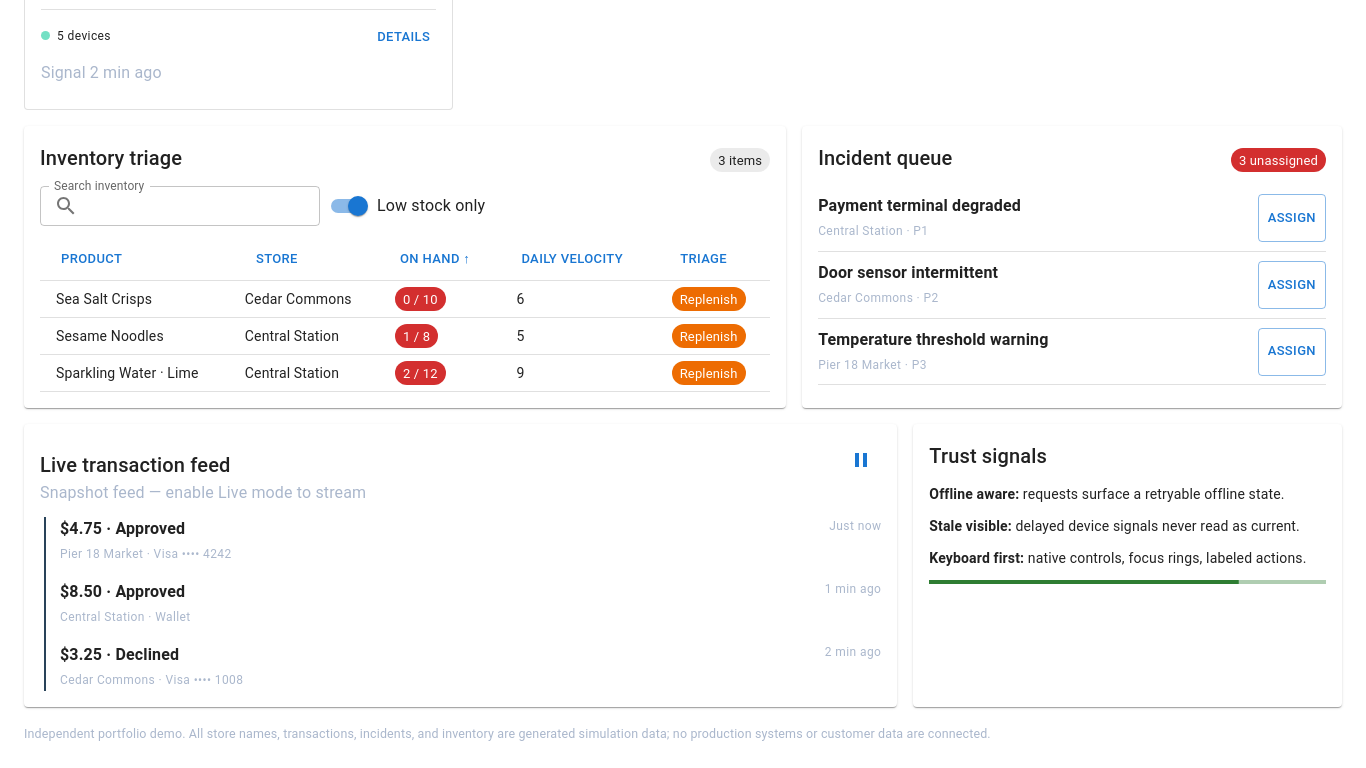
Test: Operator Console › pauses and resumes the transaction feed
(page scrolled)
Click the button named "pause live feed". click: (861, 460)
box: [841, 440, 881, 480]
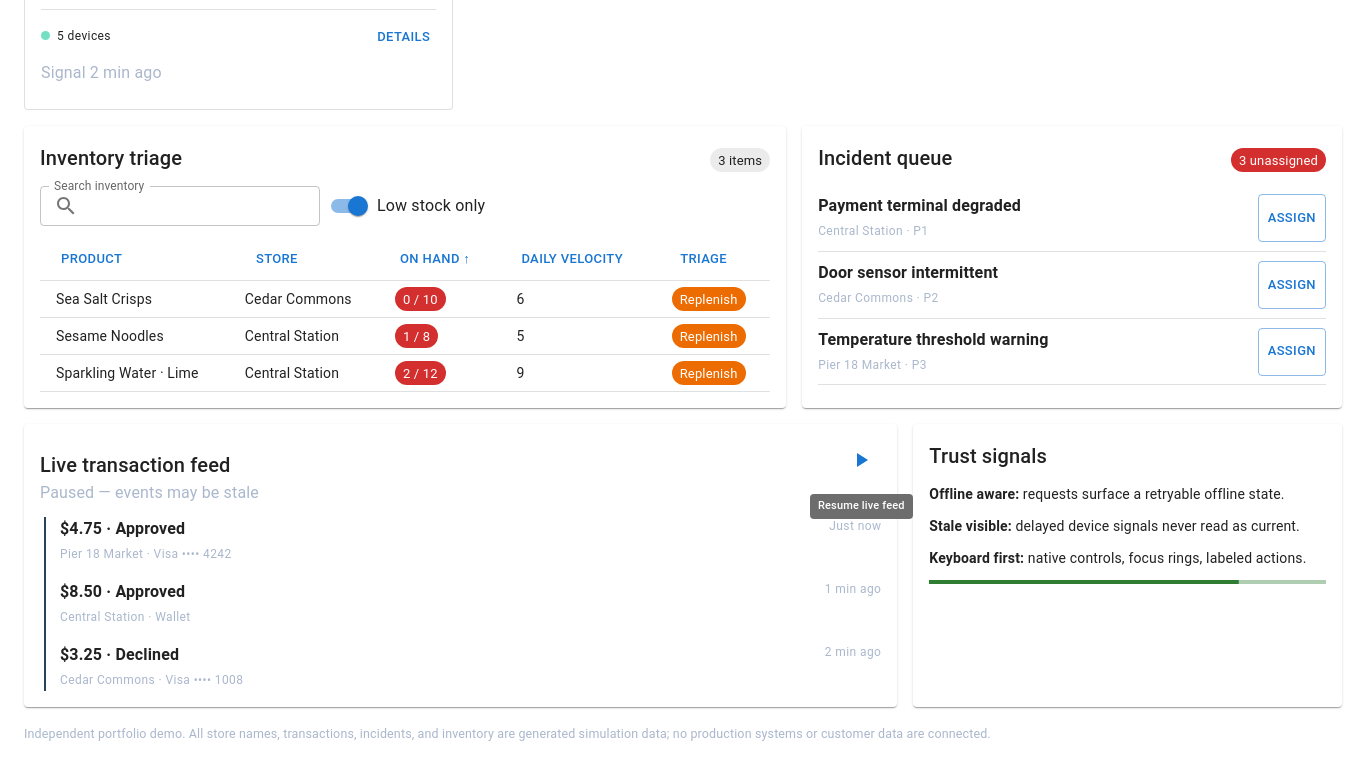
Check: the button named "resume live feed" is shown, box [841, 440, 881, 480]
